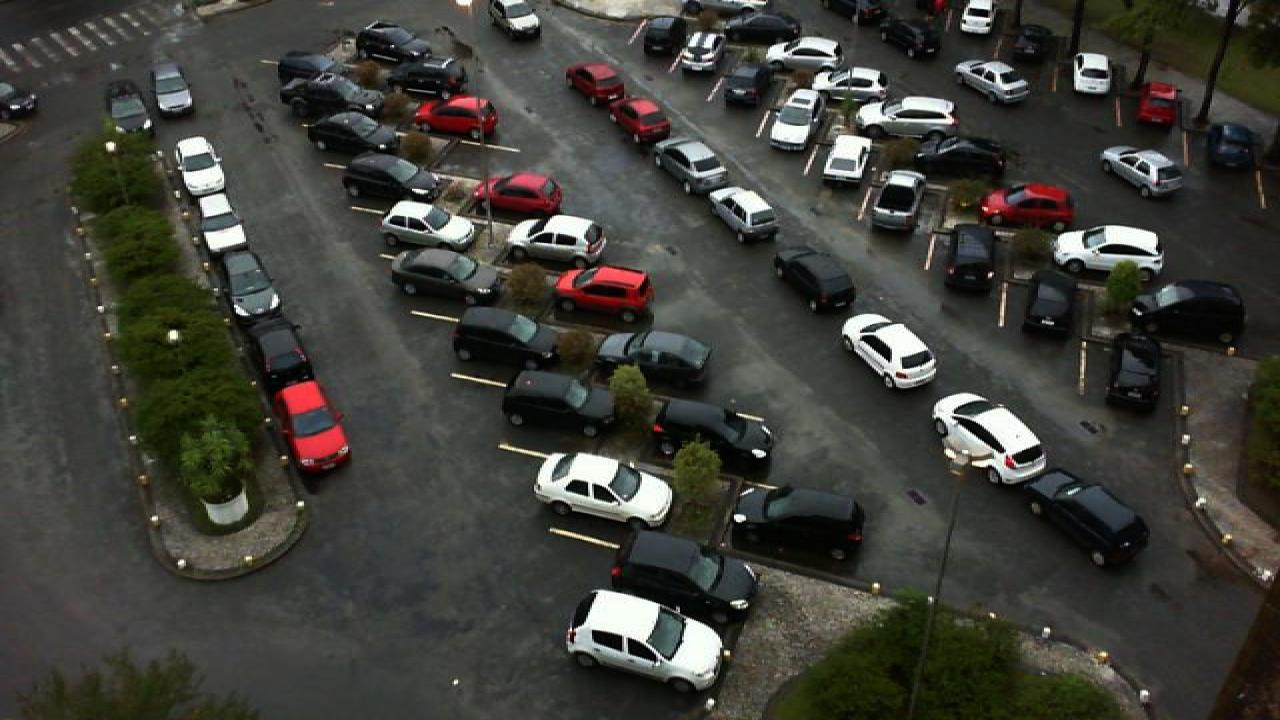Car: (564, 588, 728, 694), (608, 530, 762, 628), (1020, 466, 1152, 568), (532, 449, 676, 530), (930, 392, 1048, 486), (730, 483, 866, 562), (646, 395, 774, 475), (498, 368, 620, 438), (270, 379, 352, 475), (840, 313, 938, 390), (388, 246, 506, 308), (452, 306, 564, 369), (1132, 278, 1246, 337), (592, 330, 712, 386), (1052, 224, 1168, 276), (772, 246, 858, 314), (554, 264, 658, 320), (504, 215, 608, 270), (340, 152, 444, 204), (378, 199, 478, 252), (244, 320, 314, 390), (1098, 143, 1186, 198), (976, 182, 1076, 229), (854, 94, 960, 138), (1108, 334, 1166, 414), (704, 186, 784, 243), (218, 250, 282, 320), (650, 138, 730, 194), (472, 171, 564, 218), (940, 222, 1000, 292), (308, 110, 396, 156), (912, 134, 1004, 178), (864, 168, 926, 232), (280, 78, 370, 122), (414, 94, 498, 140), (764, 88, 824, 152), (952, 58, 1032, 106), (1020, 266, 1074, 336), (192, 192, 250, 256), (386, 57, 470, 100), (172, 136, 230, 198), (710, 10, 804, 46), (354, 20, 432, 62), (604, 98, 672, 146), (808, 64, 888, 102), (762, 36, 846, 72), (816, 132, 874, 184), (874, 16, 942, 60), (274, 49, 350, 88), (564, 61, 626, 106), (146, 61, 196, 115), (714, 62, 772, 108), (1208, 122, 1260, 172), (104, 81, 152, 135), (484, 0, 544, 42), (674, 29, 726, 74), (1136, 79, 1180, 126), (1008, 23, 1056, 64), (1068, 52, 1112, 96), (956, 0, 998, 37)
